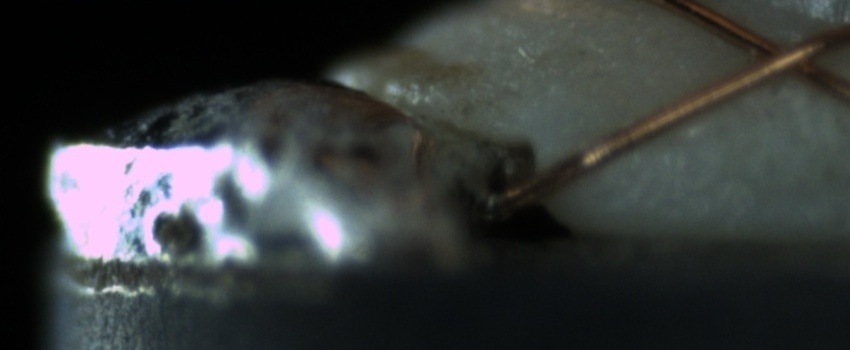CL: (729, 22, 832, 91)
